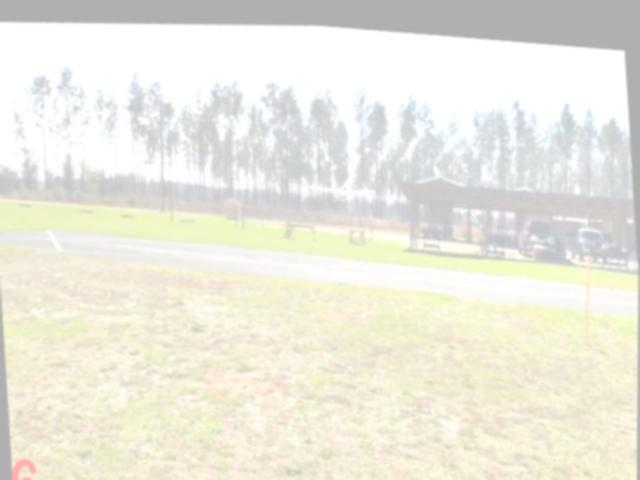plane: (308, 167, 375, 197)
